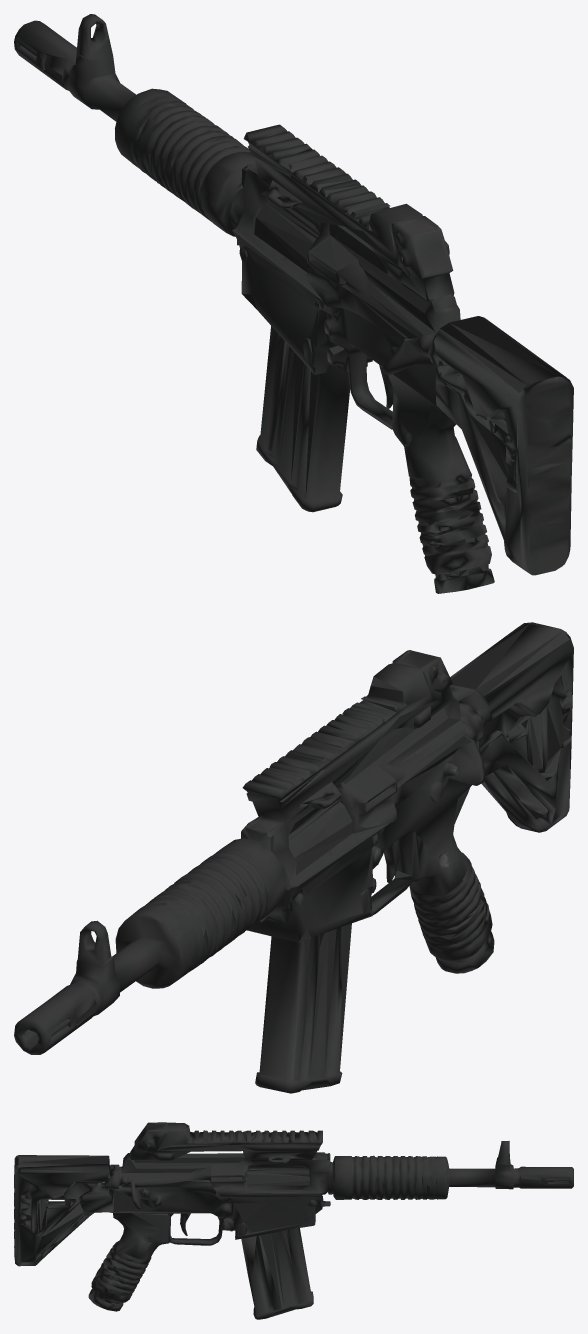
The model's file is lmg_bastion.glb.
3 views of the same model, one above another, from view 1: azimuth 30°, elevation 25°; view 2: azimuth 150°, elevation 25°; view 3: azimuth 270°, elevation 25° (orthographic). The views are drawn at different scales.
Visible parts, largest first — view 1: lmg_bastion; view 2: lmg_bastion; view 3: lmg_bastion.
Boxes of the visible parts, left/top/right/bottom form: lmg_bastion: left=14, top=14, right=573, bottom=593; lmg_bastion: left=14, top=622, right=573, bottom=1093; lmg_bastion: left=14, top=1122, right=573, bottom=1319.
Bounding box in the file's own units: 0.1245 × 0.3896 × 1.04.
Materials: 1 (1 with a texture image).
